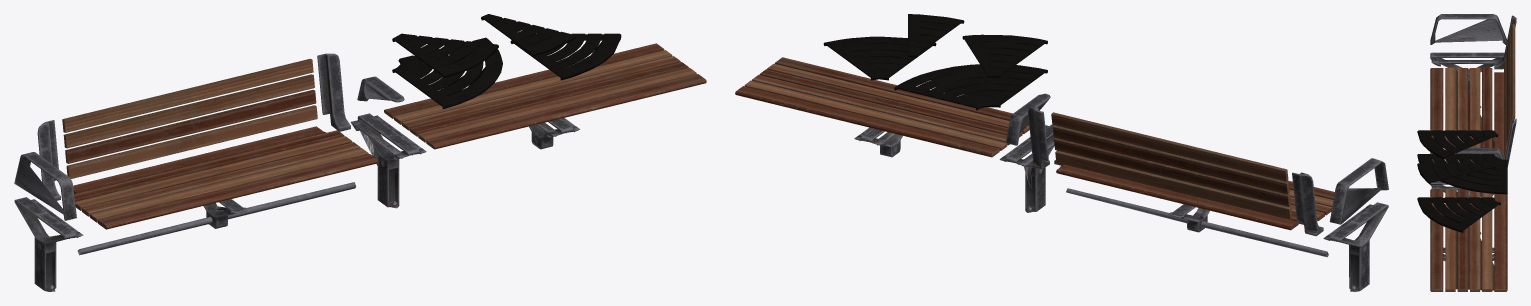
File: modular_street_seating.gltf
3 views of the same model, side by side, from view 1: azimuth 30°, elevation 25°; view 2: azimuth 150°, elevation 25°; view 3: azimuth 270°, elevation 25° (orthographic). The views are drawn at different scales.
Visible parts, largest first — view 1: seat_back, seat, seat_bench, connector_90, legs_double, connector_45, legs_single, connector_60, arm_rest_01, crossbar, connector_30, back_support_l (+4 smaller); view 2: seat_bench, seat_back, connector_90, seat, connector_60, legs_single, connector_45, arm_rest_01, legs_double, crossbar, connector_30, back_support_r (+4 smaller); view 3: seat_bench, seat, connector_90, connector_60, arm_rest_01, connector_45, seat_back, connector_30, legs_single, arm_rest_02, back_support_r, back_support_l (+1 smaller).
Part boxes in pixels (x1,y1,x2,y2): seat_back: (62,58,317,178); seat: (73,126,378,229); seat_bench: (384,43,706,149); connector_90: (392,37,502,109); legs_double: (350,113,426,208); connector_45: (392,33,498,78); legs_single: (14,197,83,291); connector_60: (510,33,621,80); arm_rest_01: (14,152,76,220); crossbar: (77,182,356,255); connector_30: (481,14,575,56); back_support_l: (317,53,350,131); seat_bench: (735,57,1029,157); seat_back: (1051,112,1292,219); connector_90: (894,64,1047,110); seat: (1054,160,1334,230); connector_60: (823,36,936,80); legs_single: (1323,202,1388,291); connector_45: (962,34,1047,78); arm_rest_01: (1329,158,1388,224); legs_double: (999,124,1055,212); crossbar: (1066,188,1328,257); connector_30: (908,14,964,57); back_support_r: (1292,172,1323,236); seat_bench: (1430,189,1507,291); seat: (1430,68,1504,163); connector_90: (1417,154,1507,194); connector_60: (1417,197,1500,232); arm_rest_01: (1430,14,1506,44); connector_45: (1417,130,1498,159); seat_back: (1504,24,1515,157); connector_30: (1417,163,1496,184); legs_single: (1430,52,1504,107); arm_rest_02: (1456,148,1504,159); back_support_r: (1494,15,1516,69); back_support_l: (1504,118,1516,166).
Size of the model in its own units: 4.34 by 0.95 by 0.7704.
Materials: 5 (5 with a texture image).
